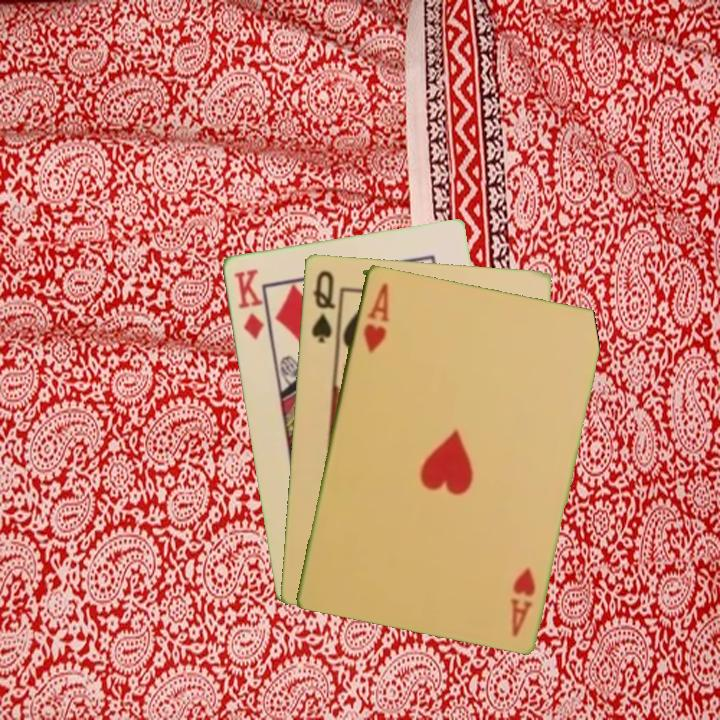Ah: (359, 279, 392, 357), (507, 563, 538, 639)
Kd: (230, 265, 266, 343)
Qs: (307, 267, 337, 345)
